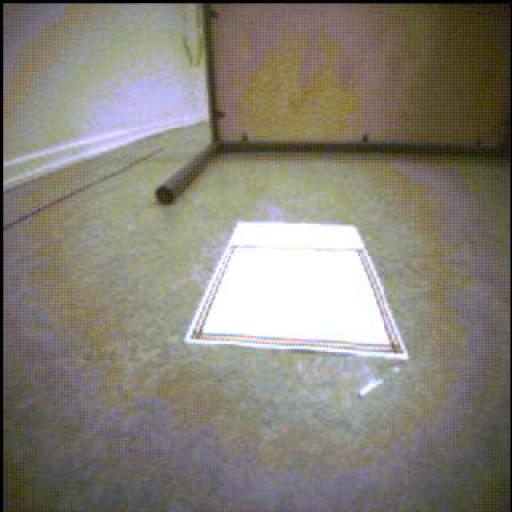Pad: (187, 223, 409, 361)
